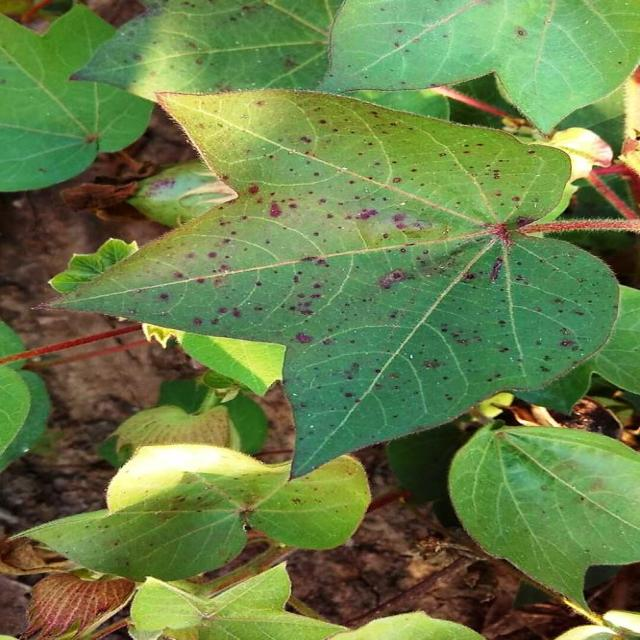Bacterial Blight: (244, 118, 521, 357)
